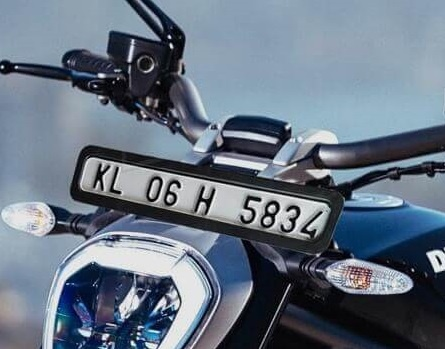plate: (65, 138, 355, 250)
